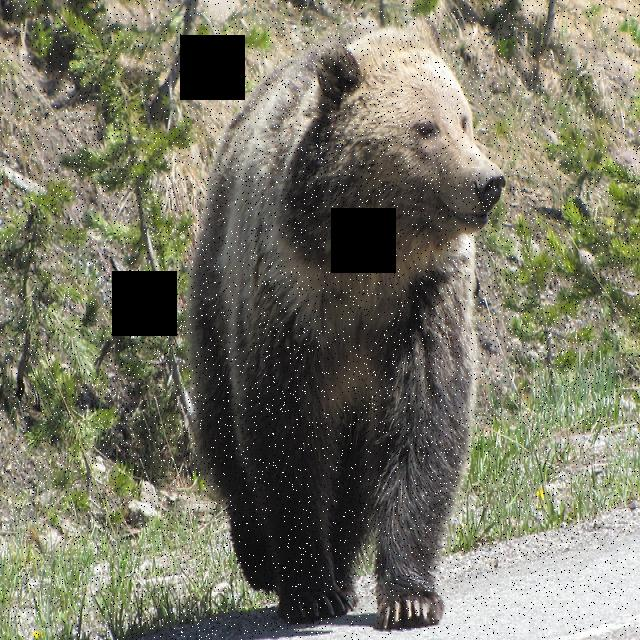Bear: (174, 28, 508, 632)
